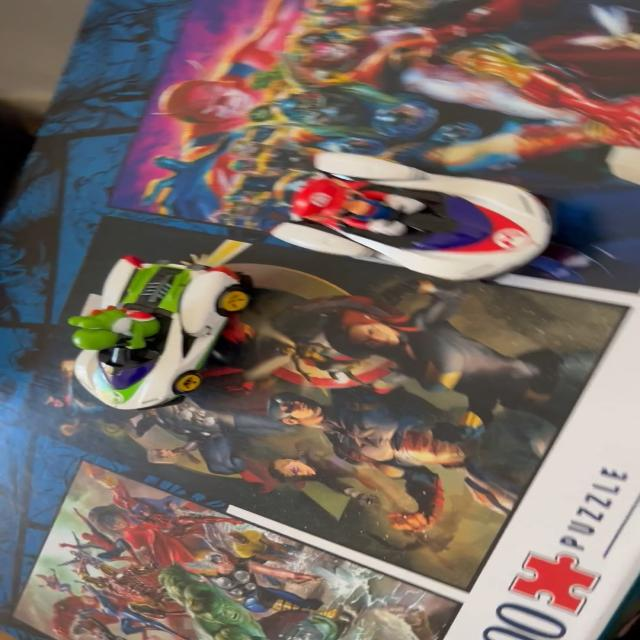mario: (259, 148, 584, 287)
yoshi: (40, 234, 266, 427)
